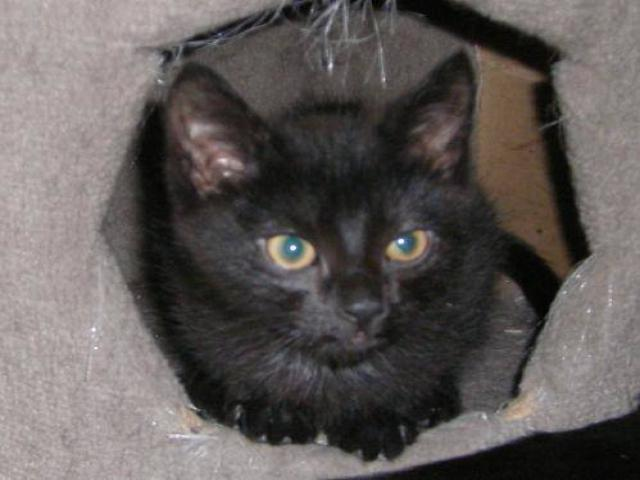cat: (116, 42, 552, 457)
